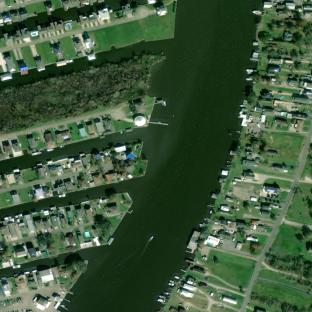Floresta: (0, 54, 164, 134), (265, 252, 312, 281), (292, 23, 312, 46), (94, 214, 112, 235), (302, 225, 312, 251), (281, 302, 299, 312)
